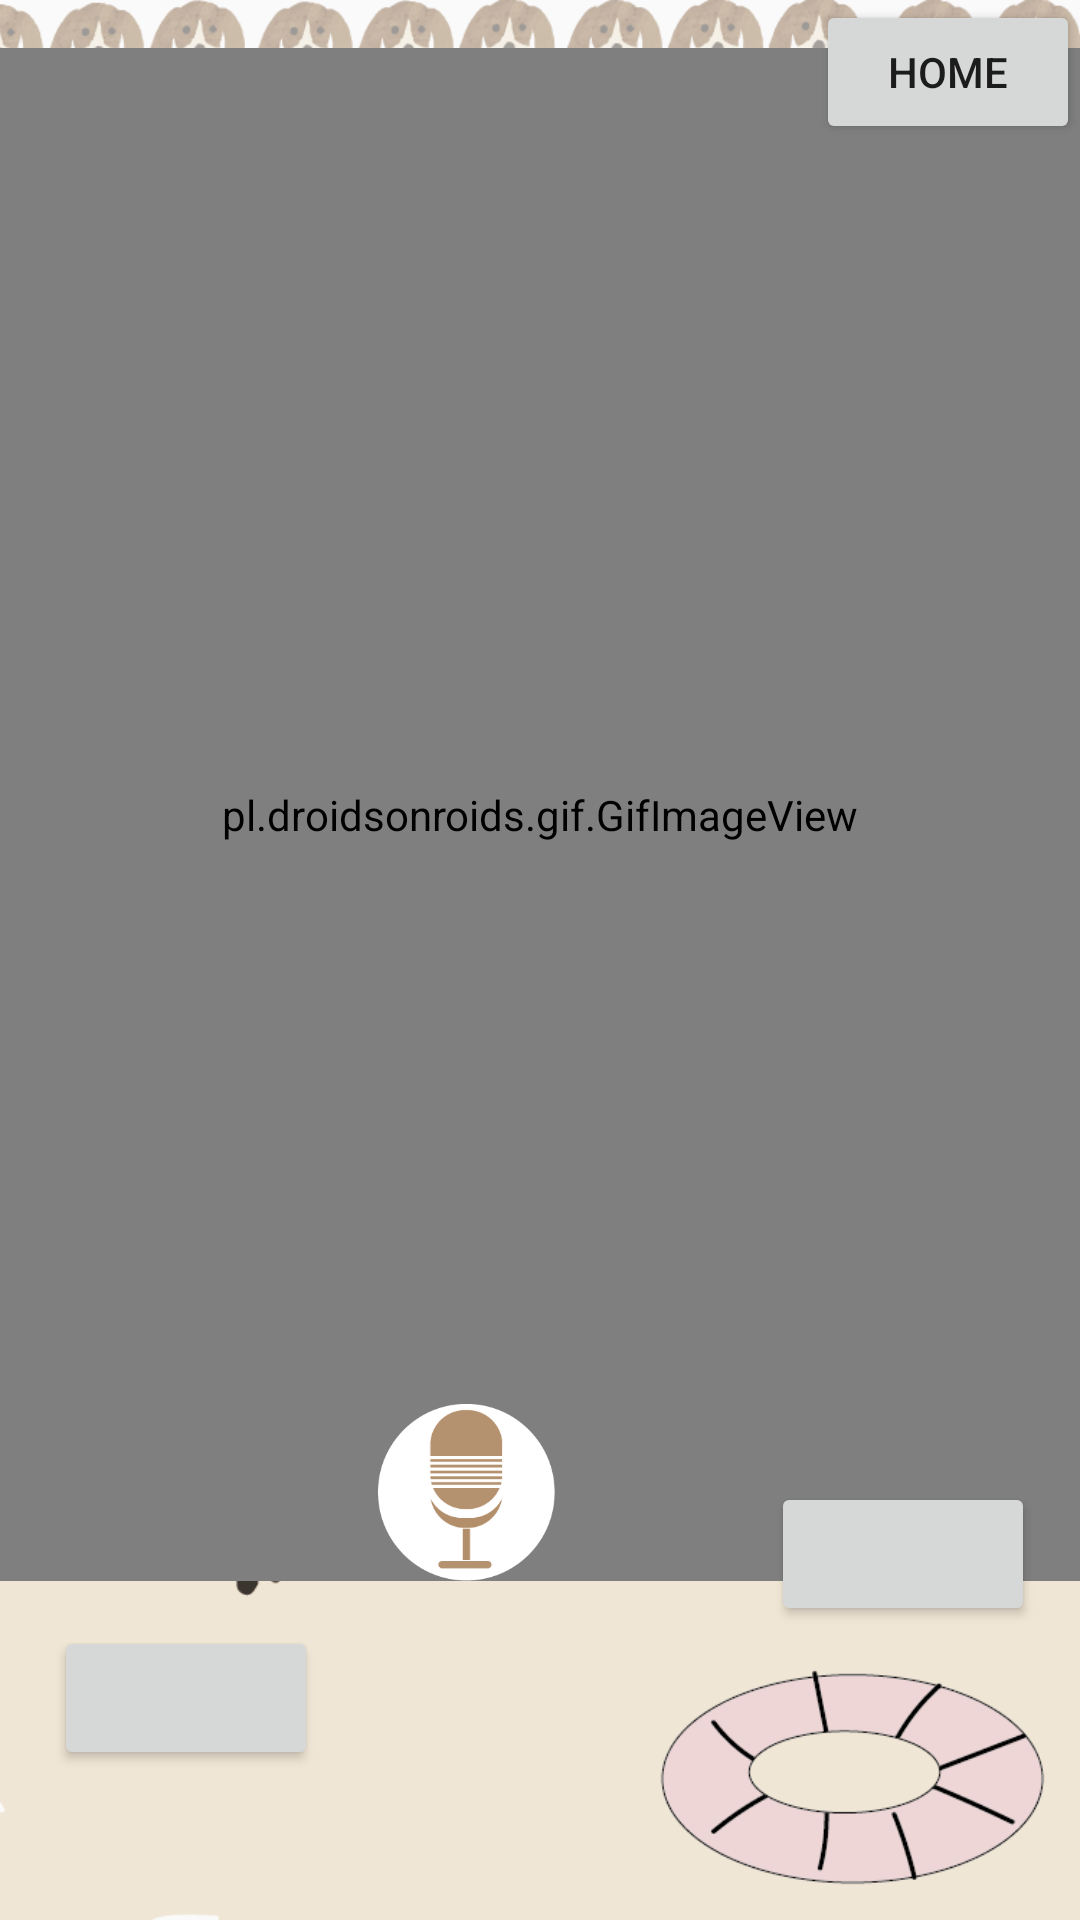

Point at icon controls on the screen. Image size 1080×1920, points as [x,y].
mic: [466,1492]
